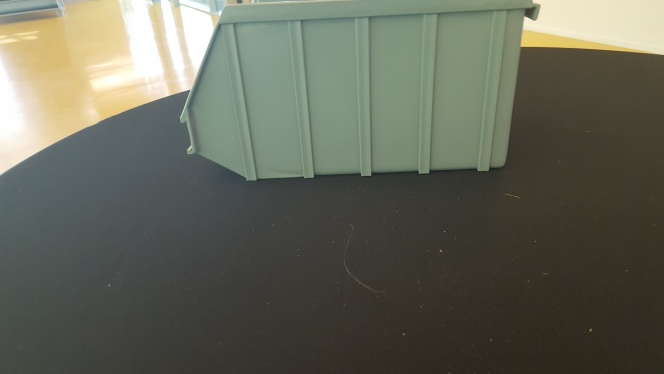tray_right: (178, 1, 542, 182)
